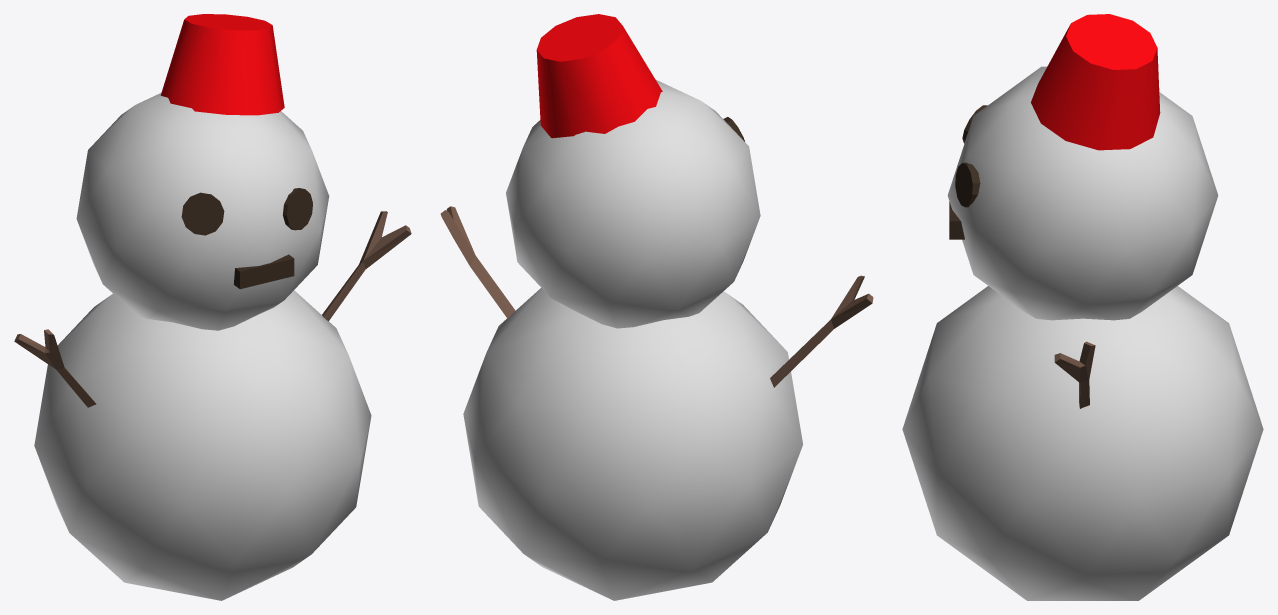
The model's file is yukidaruma2.fbx.
3 views of the same model, side by side, from view 1: azimuth 30°, elevation 25°; view 2: azimuth 150°, elevation 25°; view 3: azimuth 270°, elevation 25° (orthographic). The views are drawn at different scales.
Visible parts, largest first — view 1: snowMan; view 2: snowMan; view 3: snowMan.
Part boxes in pixels (x1,y1,x2,y2): snowMan: (14,14,411,600); snowMan: (440,14,873,600); snowMan: (902,14,1263,600).
Size of the model in its own units: 2.74 by 3.42 by 2.
